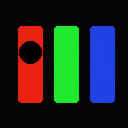2 circle: (19, 41, 41, 63)
